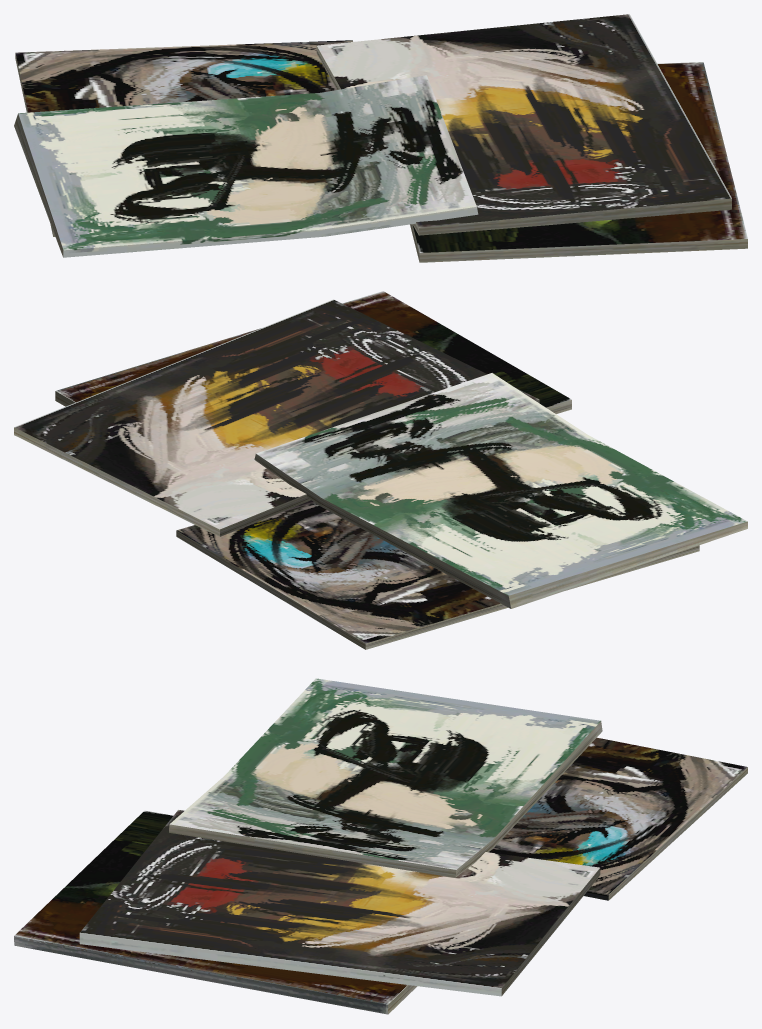
File: magazine_pile01_wau.dae
3 views of the same model, one above another, from view 1: azimuth 30°, elevation 25°; view 2: azimuth 150°, elevation 25°; view 3: azimuth 270°, elevation 25° (orthographic). The views are drawn at different scales.
Visible parts, largest first — view 1: magazine_pile01; view 2: magazine_pile01; view 3: magazine_pile01.
Part boxes in pixels (bbox=[...]): magazine_pile01: bbox=[14, 14, 747, 262]; magazine_pile01: bbox=[14, 291, 747, 649]; magazine_pile01: bbox=[14, 678, 747, 1014].
Size of the model in its own units: 39.13 by 1.72 by 37.58.
